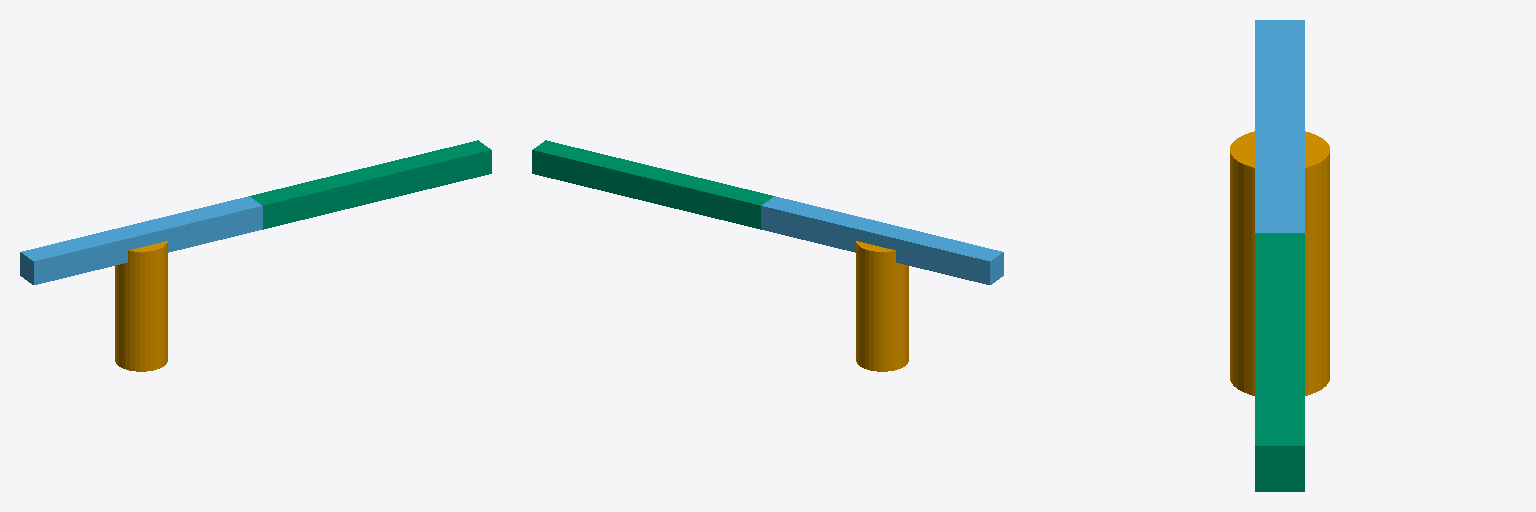
URDF robot description (finalrobot2_1100452):
<?xml version="1.0"?>
<robot name="finalrobot2_1100452">

  <!-- Base Link -->
  <link name="base_link">
    <visual>
      <geometry>
        <cylinder length="0.5" radius="0.1"/>
      </geometry>
      <material name="blue"/>
    </visual>
    <collision>
      <geometry>
        <cylinder length="0.5" radius="0.1"/>
      </geometry>
    </collision>
    <inertial>
      <mass value="1.0"/>
      <origin xyz="0 0 0"/>
      <inertia ixx="0.1" ixy="0.0" ixz="0.0" iyy="0.1" iyz="0.0" izz="0.1"/>
    </inertial>
  </link>

  <!-- Link 1 -->
  <link name="link1">
    <visual>
      <geometry>
        <box size="1 0.1 0.1"/>
      </geometry>
      <material name="red"/>
    </visual>
    <collision>
      <geometry>
        <box size="1 0.1 0.1"/>
      </geometry>
    </collision>
    <inertial>
      <mass value="1.0"/>
      <origin xyz="0.5 0 0"/>
      <inertia ixx="0.1" ixy="0.0" ixz="0.0" iyy="0.1" iyz="0.0" izz="0.1"/>
    </inertial>
  </link>

  <!-- Link 2 -->
  <link name="link2">
    <visual>
      <geometry>
        <box size="1 0.1 0.1"/>
      </geometry>
      <material name="green"/>
    </visual>
    <collision>
      <geometry>
        <box size="1 0.1 0.1"/>
      </geometry>
    </collision>
    <inertial>
      <mass value="1.0"/>
      <origin xyz="0.5 0 0"/>
      <inertia ixx="0.1" ixy="0.0" ixz="0.0" iyy="0.1" iyz="0.0" izz="0.1"/>
    </inertial>
  </link>

  <!-- Joint 1 -->
  <joint name="joint1" type="revolute">
    <parent link="base_link"/>
    <child link="link1"/>
    <origin xyz="0 0 0.25" rpy="0 0 0"/>
    <axis xyz="0 0 1"/>
    <limit lower="-1.57" upper="1.57" effort="100.0" velocity="1.0"/>
  </joint>

  <!-- Joint 2 -->
  <joint name="joint2" type="revolute">
    <parent link="link1"/>
    <child link="link2"/>
    <origin xyz="1 0 0" rpy="0 0 0"/>
    <axis xyz="0 0 1"/>
    <limit lower="-1.57" upper="1.57" effort="100.0" velocity="1.0"/>
  </joint>

</robot>

--- Facts derived from the render (not from the file) ---
The picture shows the robot from 3 angles, left to right: view 1: azimuth 30°, elevation 25°; view 2: azimuth 150°, elevation 25°; view 3: azimuth 270°, elevation 25°; orthographic projection.
Robot: finalrobot2_1100452 — 3 links, 2 joints (2 revolute); root link base_link; default pose: every joint at zero.
Links seen in each view (by area): view 1: link2, link1, base_link; view 2: link2, link1, base_link; view 3: link2, base_link, link1.
Boxes of the visible links, x1,y1,x2,y2 form: link2: (250,140,491,229); link1: (20,196,262,284); base_link: (115,241,167,371); link2: (532,140,773,229); link1: (761,196,1003,284); base_link: (856,241,908,371); link2: (1255,233,1304,491); base_link: (1230,131,1329,395); link1: (1255,20,1304,232).
Size in the robot's own frame: 2 by 0.2 by 0.55 metres.
Geometry: primitives only (box / cylinder / sphere), no mesh files.
